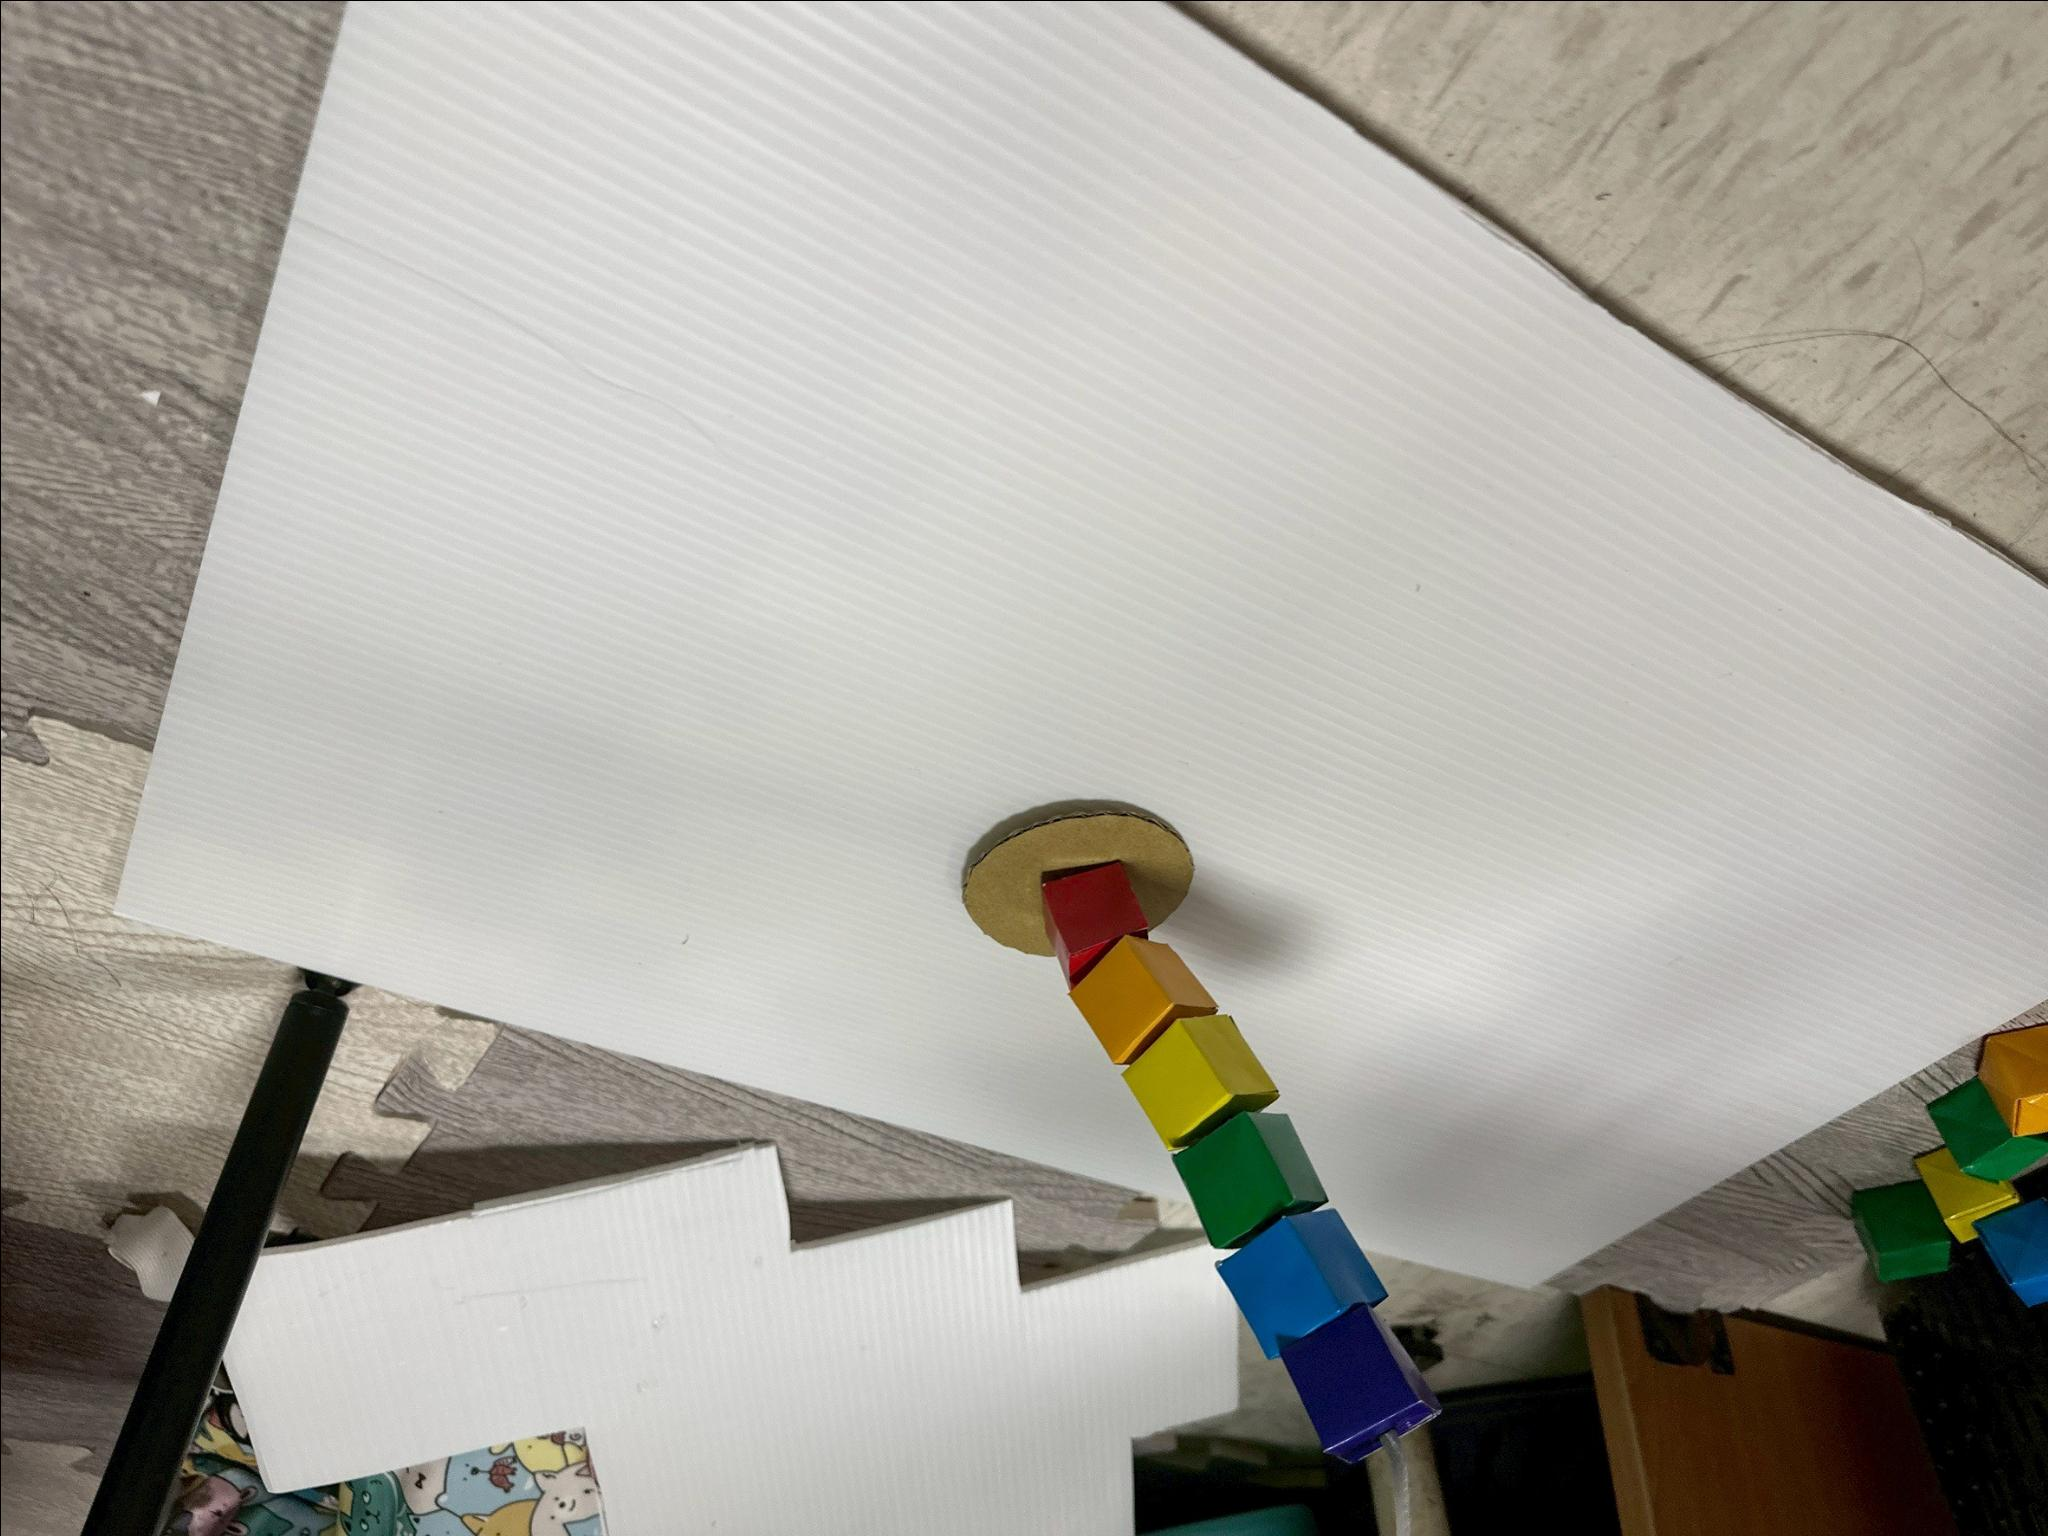base: (961, 810, 1193, 955)
cube: (1216, 1208, 1385, 1357), (1280, 1304, 1437, 1462), (1122, 1013, 1277, 1152), (1172, 1112, 1324, 1247), (1069, 934, 1218, 1063), (1042, 862, 1148, 984), (1927, 1079, 2048, 1181), (1851, 1179, 1956, 1281), (1914, 1147, 2019, 1241), (1975, 1197, 2048, 1304), (1979, 1025, 2048, 1134)
